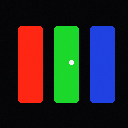0 point: (69, 60, 73, 64)
